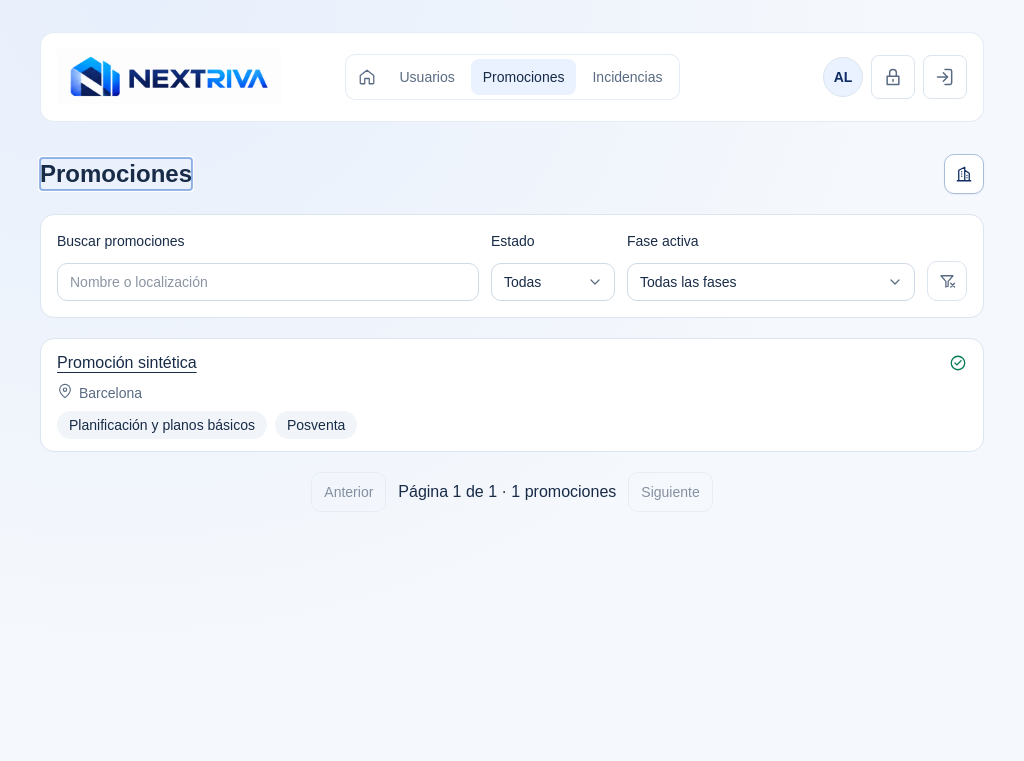
navigates from the list to a persistent detail route identifying ordered phases
This screenshot has width=1024, height=761.
Click the link "Promoción sintética": point(127, 362) [57,354,197,371]
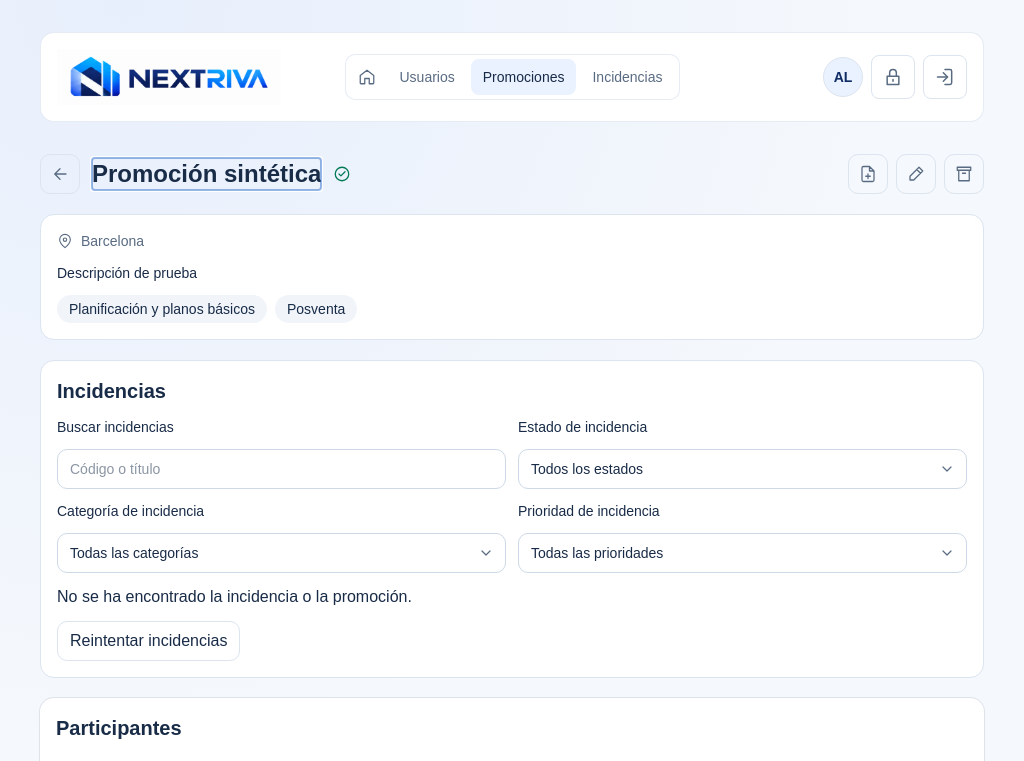
expect the heading "Promoción sintética" is shown: met, box [92,158,321,190]
expect the list items read "Planificación y planos básicos", "Posventa", in this order: met, box [57,295,267,323]; [275,295,357,323]
Click the link named "Volver a promociones": point(60, 174) [40,154,80,194]
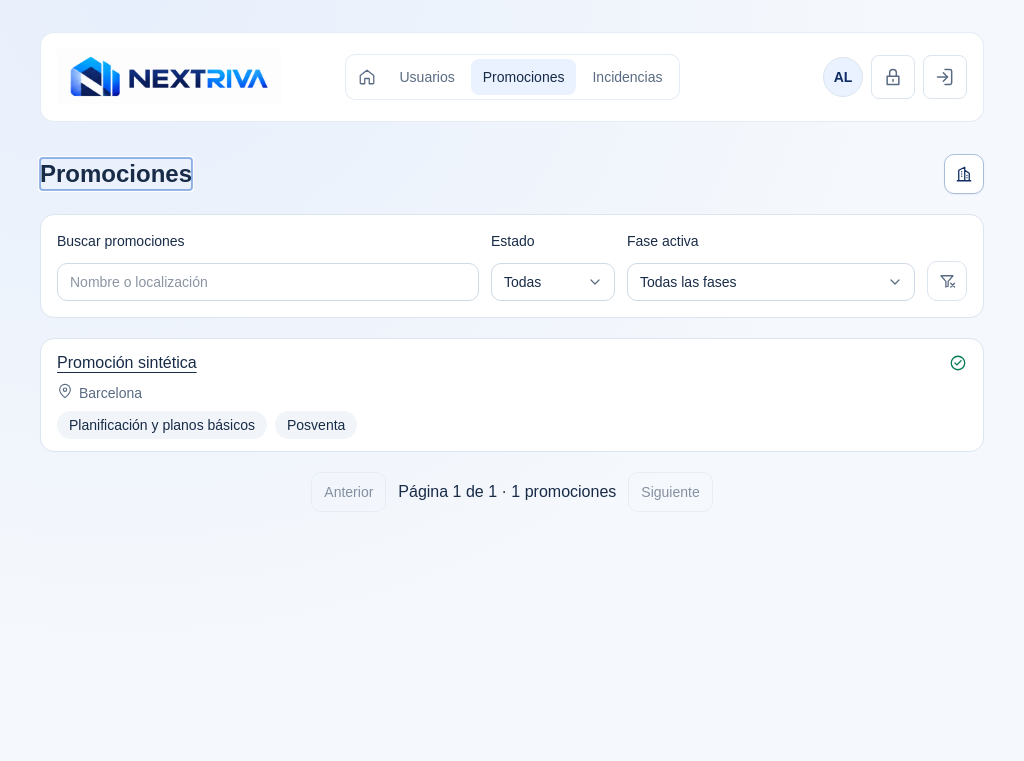
expect the heading "Promociones" is shown: met, box [40,158,192,190]
